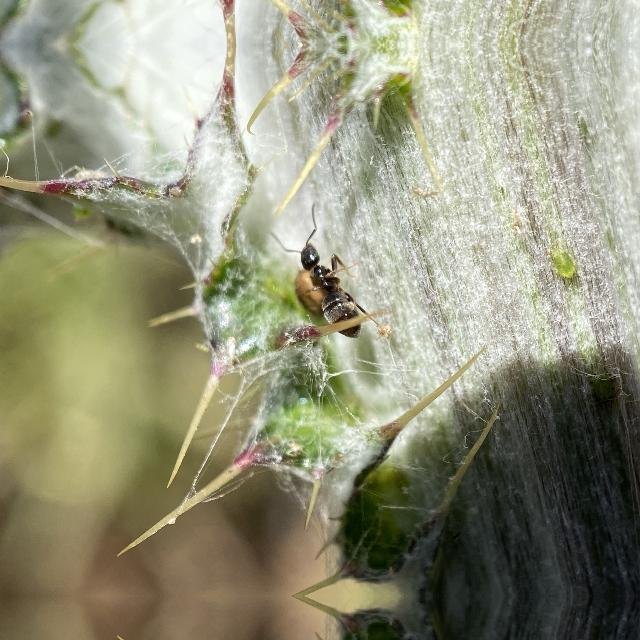Tapinoma: (284, 229, 372, 333)
